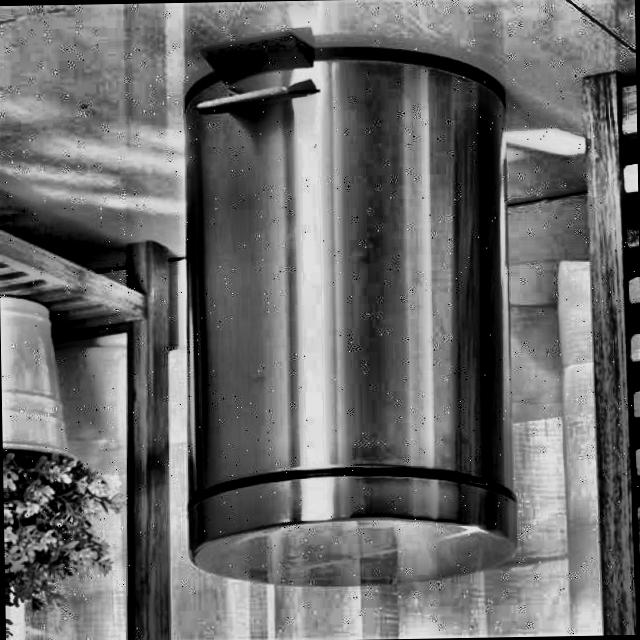Dustbin: (147, 34, 538, 600)
